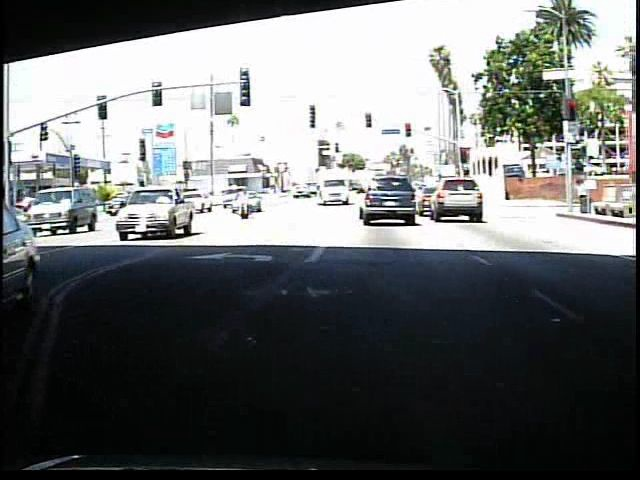person: (235, 185, 253, 220)
